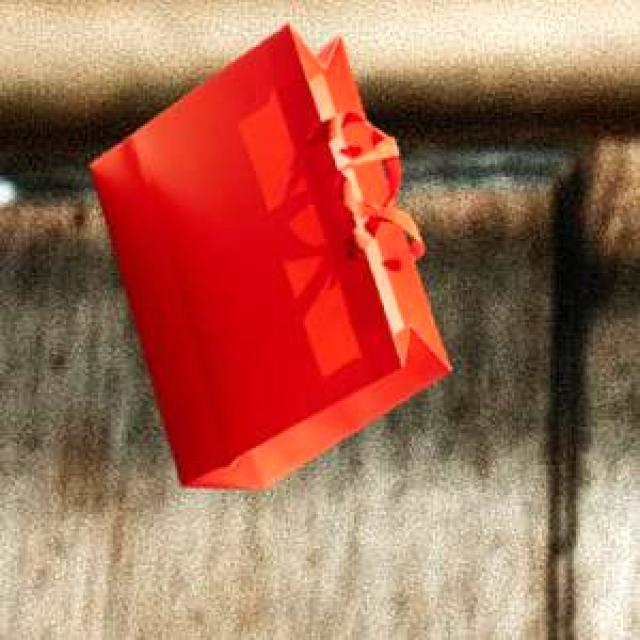Paper_Bag: (86, 21, 447, 486)
